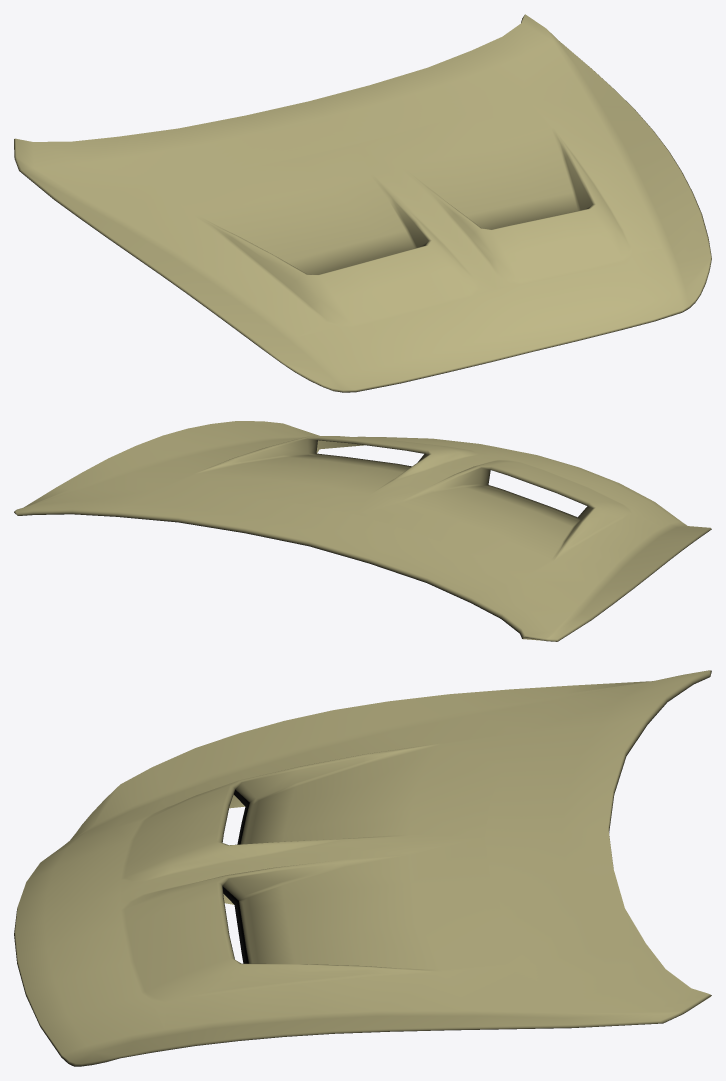
File: G37_Hood_06_Duco.fbx
The picture shows the model from 3 angles, top to bottom: view 1: azimuth 30°, elevation 25°; view 2: azimuth 150°, elevation 25°; view 3: azimuth 270°, elevation 25°; orthographic projection. The views are drawn at different scales.
Visible parts, largest first — view 1: G37_Hood_06_Duco; view 2: G37_Hood_06_Duco; view 3: G37_Hood_06_Duco.
Boxes of the visible parts, x1,y1,x2,y2 form: G37_Hood_06_Duco: (14,14,711,392); G37_Hood_06_Duco: (14,421,711,641); G37_Hood_06_Duco: (14,670,711,1066).
Size of the model in its own units: 150 by 26.09 by 130.
